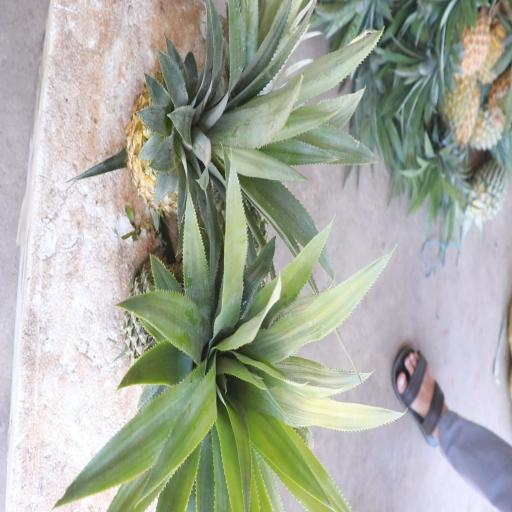Pineapple - v8 v1: (122, 66, 251, 222)
